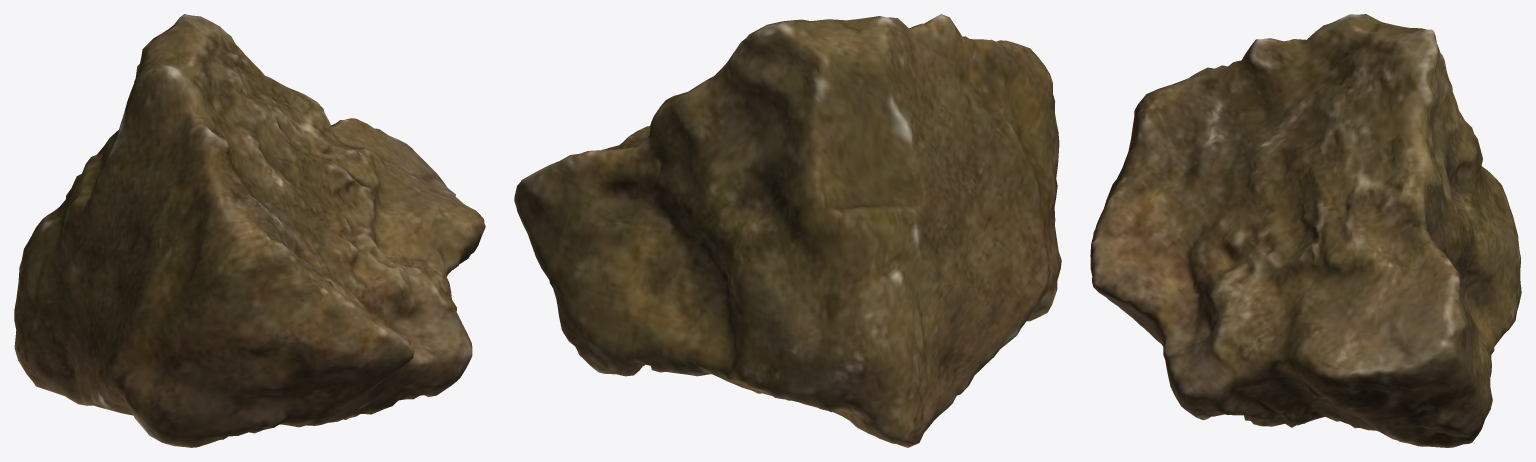
Rendered from detail_scan_rock_04.glb.
3 views of the same model, side by side, from view 1: azimuth 30°, elevation 25°; view 2: azimuth 150°, elevation 25°; view 3: azimuth 270°, elevation 25° (orthographic). The views are drawn at different scales.
Visible parts, largest first — view 1: rock_moss_set_01_rock04; view 2: rock_moss_set_01_rock04; view 3: rock_moss_set_01_rock04.
Part boxes in pixels (left/top/right/bottom): rock_moss_set_01_rock04: left=14, top=14, right=485, bottom=447; rock_moss_set_01_rock04: left=514, top=14, right=1061, bottom=447; rock_moss_set_01_rock04: left=1090, top=14, right=1521, bottom=447.
Size of the model in its own units: 2.13 by 1.77 by 1.96.
Materials: 1 (1 with a texture image).
